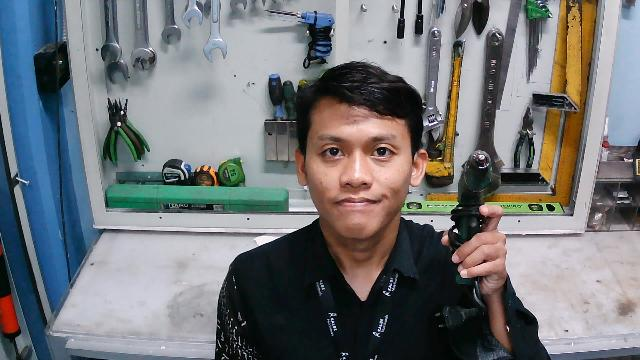gun_lem: (447, 147, 507, 280)
